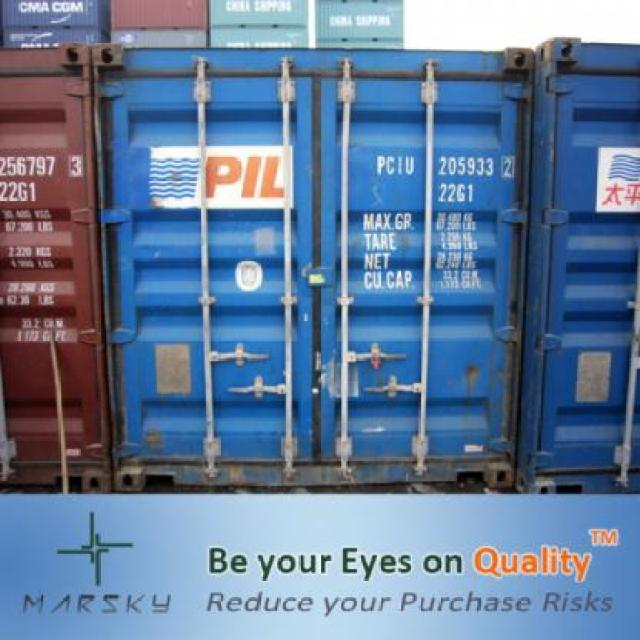ISO: (438, 183, 474, 205), (1, 181, 38, 202)
container_number: (22, 593, 172, 615), (375, 156, 513, 177), (2, 154, 82, 178)
